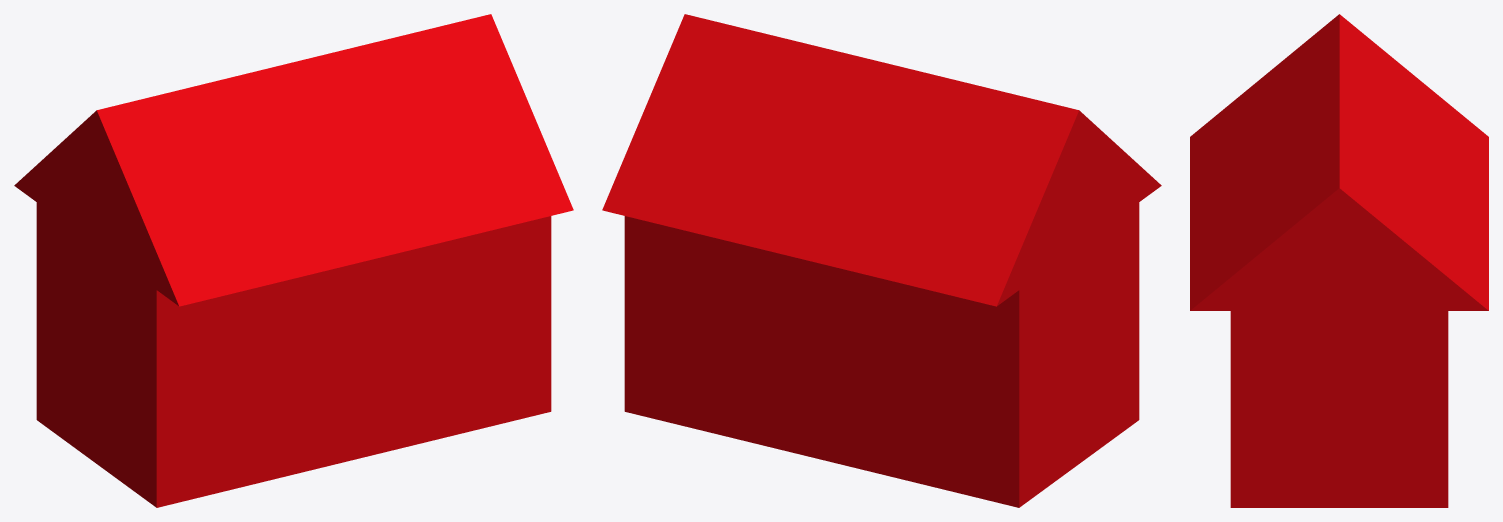
File: SiedlungRed.glb
3 renders of one model, left to right at view 1: azimuth 30°, elevation 25°; view 2: azimuth 150°, elevation 25°; view 3: azimuth 270°, elevation 25°, orthographic. The views are drawn at different scales.
Parts seen in each view (by area): view 1: Cube; view 2: Cube; view 3: Cube.
Part boxes in pixels (bbox=[...]): Cube: bbox=[14, 14, 573, 507]; Cube: bbox=[602, 14, 1161, 507]; Cube: bbox=[1190, 14, 1488, 507].
Size of the model in its own units: 0.6906 by 0.5917 by 0.5011.
